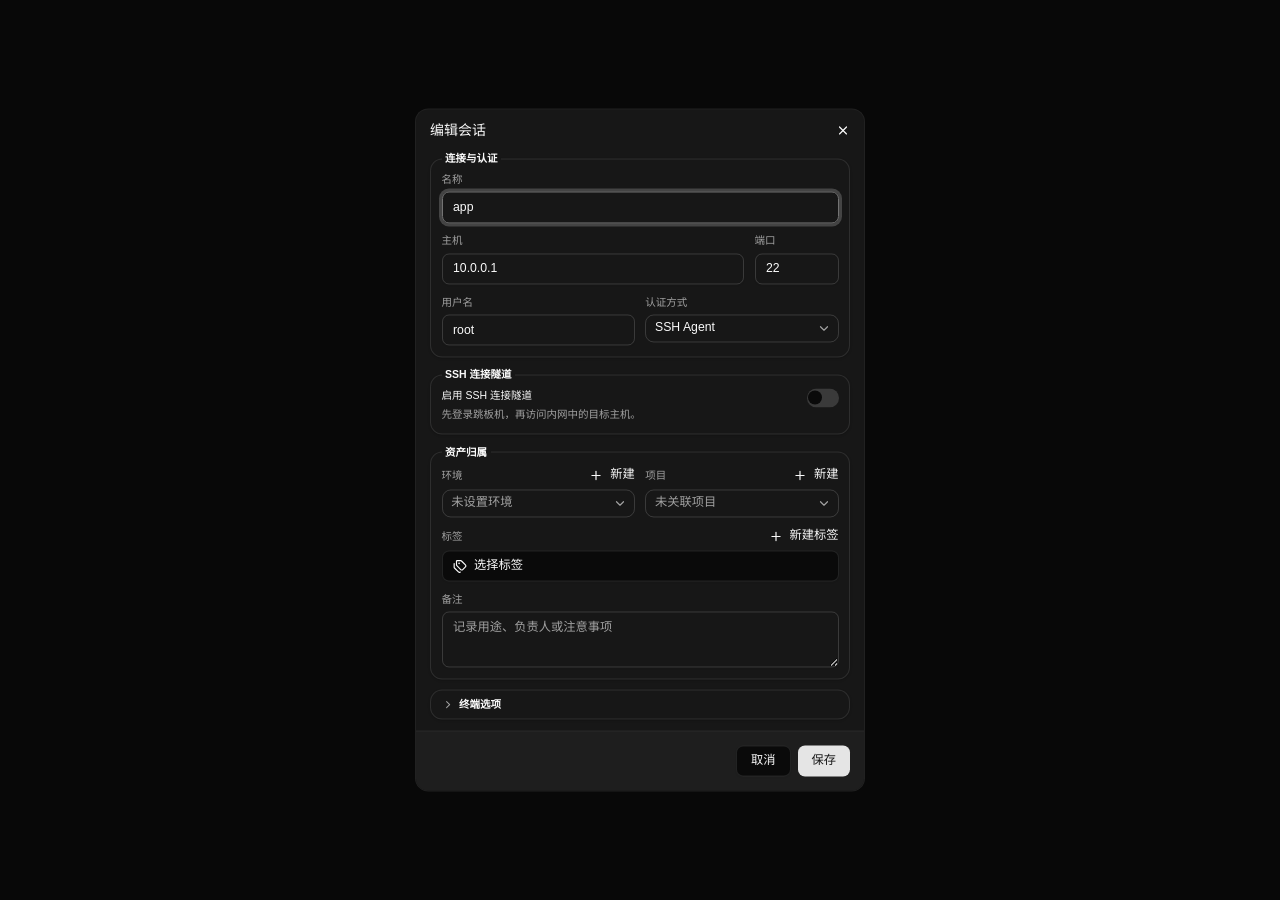
Test case: SessionDialog startup command › prefills the command when editing
What coordinates should you click on to do the following:
click the button "终端选项"
I would click on:
 (480, 705)
Its box is [431,690,849,718].
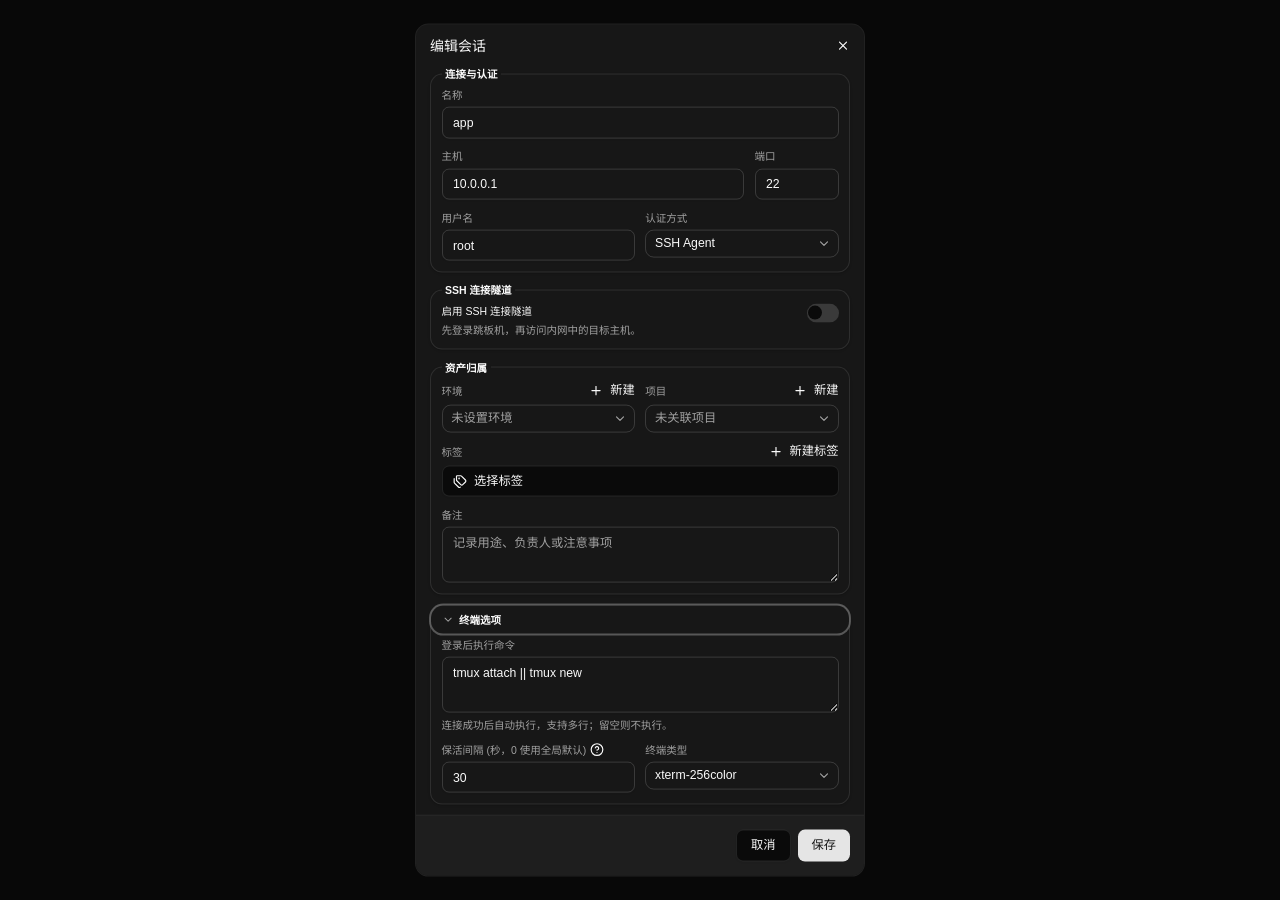
Now the text box labelled "登录后执行命令" holds "tmux attach || tmux new", box [442,656,838,712]
